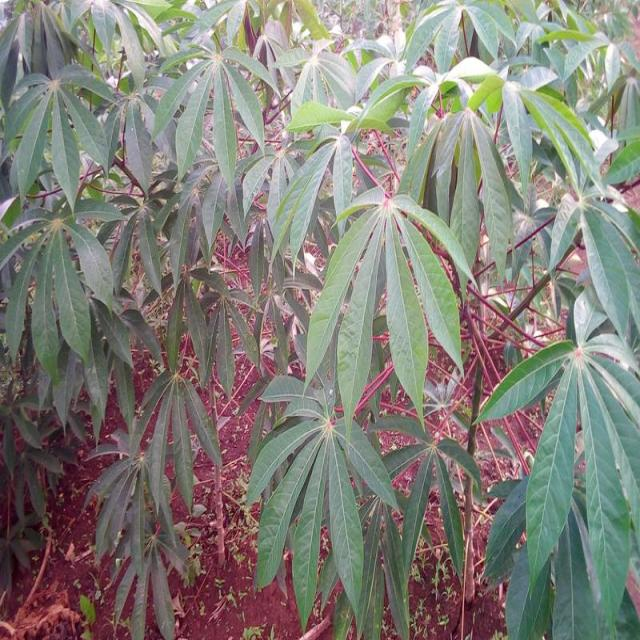cassava leaf: (2, 0, 640, 638), (477, 285, 640, 638), (304, 181, 472, 434)
